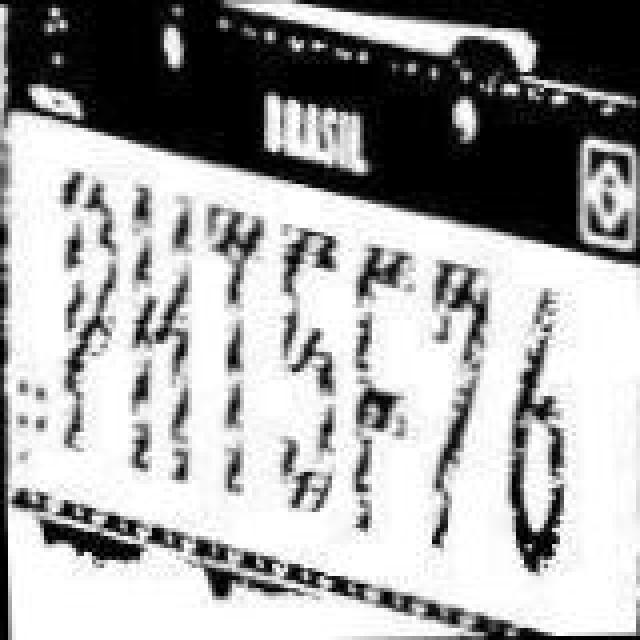5: (270, 210, 350, 518)
6: (498, 274, 582, 574)
7: (420, 260, 500, 560)
F: (346, 234, 422, 538)
H: (122, 172, 202, 496)
P: (52, 166, 136, 466)
T: (198, 190, 270, 502)
